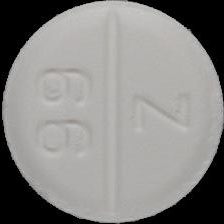68645-493: (0, 0, 224, 224)
